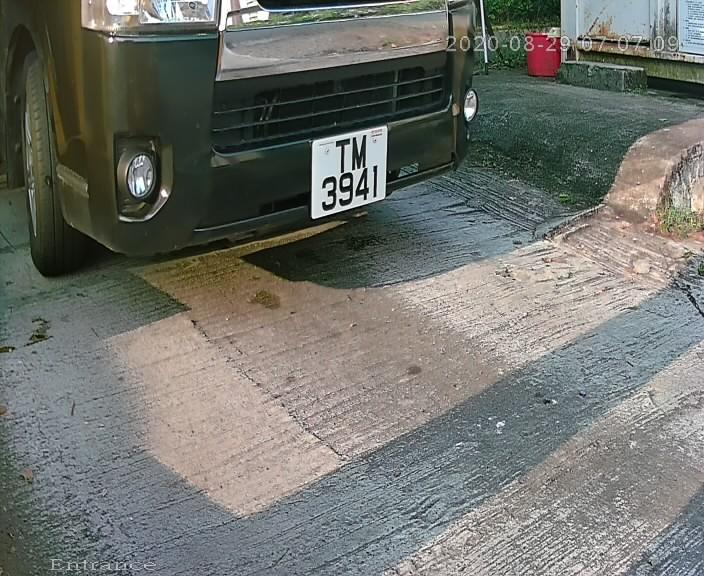License Plate: (305, 119, 400, 222)
